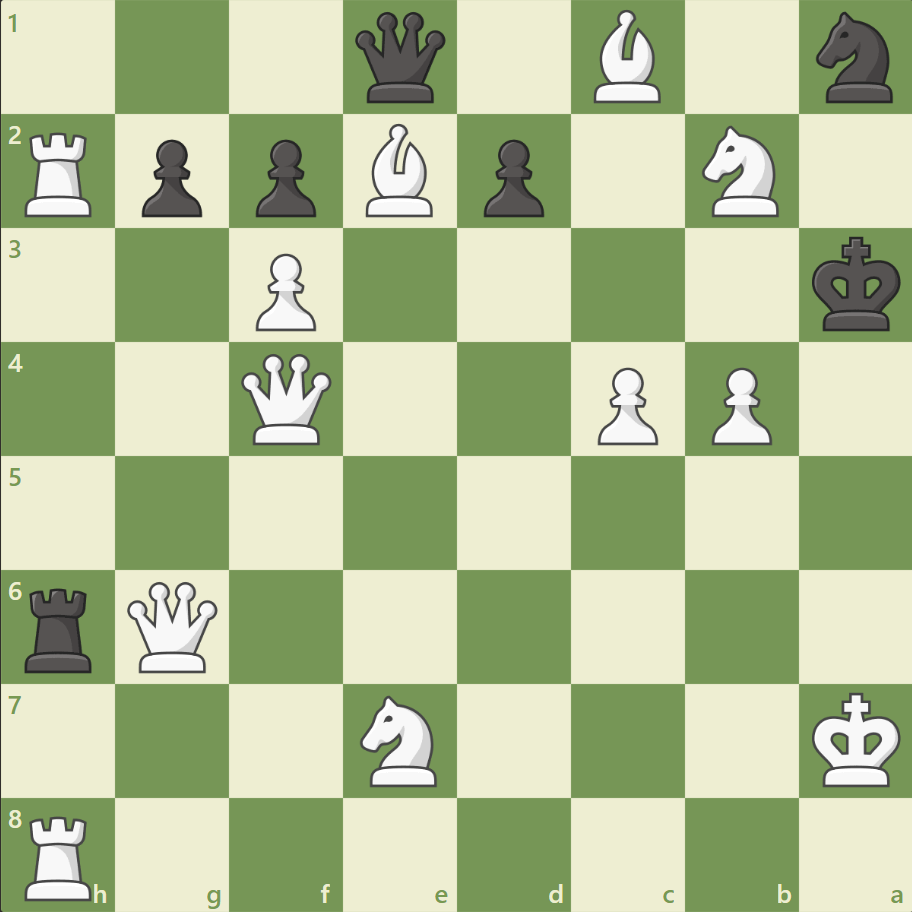B: (585, 6, 669, 109), (358, 120, 442, 222)
K: (806, 685, 906, 793)
N: (351, 688, 449, 791), (692, 121, 789, 223)
P: (701, 359, 776, 450), (247, 246, 322, 337), (588, 359, 662, 450)
Q: (124, 576, 223, 676), (237, 349, 336, 449)
R: (19, 806, 102, 904), (19, 125, 102, 222)
k: (806, 231, 906, 339)
n: (806, 7, 903, 110)
p: (474, 132, 549, 223), (247, 132, 322, 223), (133, 132, 208, 223)
q: (351, 9, 450, 108)
r: (19, 579, 102, 676)
